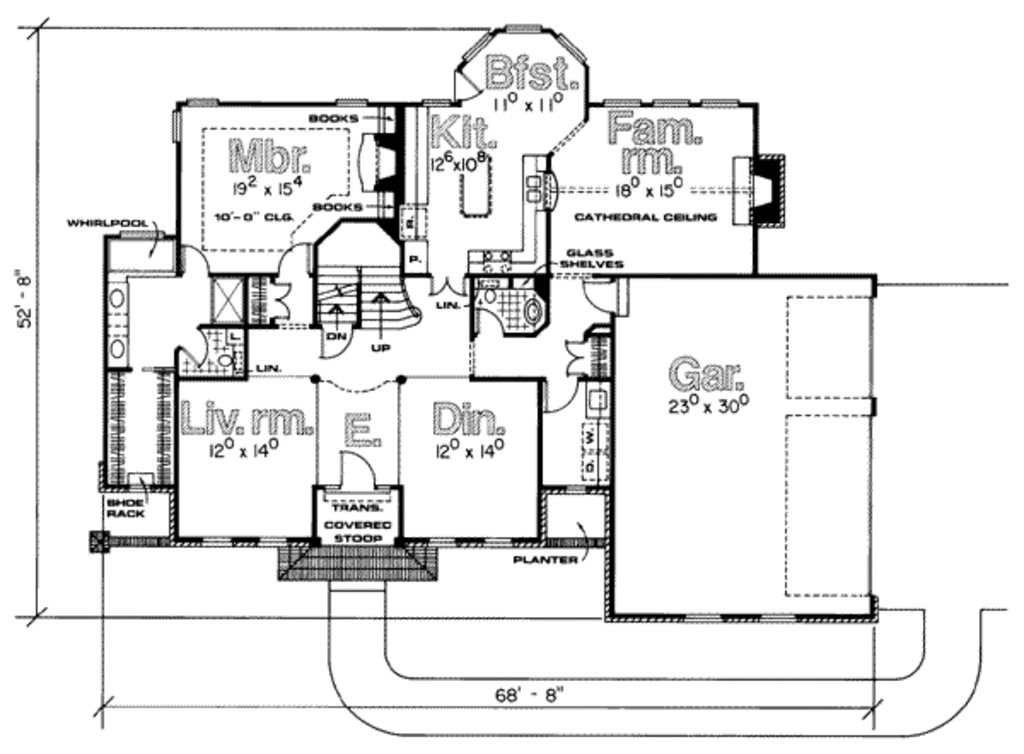door: (330, 449, 378, 499), (542, 374, 581, 418), (581, 279, 620, 320), (181, 325, 213, 371), (267, 276, 298, 322), (472, 305, 511, 340), (428, 270, 469, 303), (178, 243, 215, 275), (564, 336, 587, 377)
small_sink: (101, 279, 131, 370)
stairs: (314, 218, 419, 335)
window: (600, 94, 745, 116), (678, 608, 802, 630), (198, 533, 291, 547), (492, 21, 546, 43), (336, 93, 375, 114), (417, 98, 455, 116), (184, 95, 224, 106)
